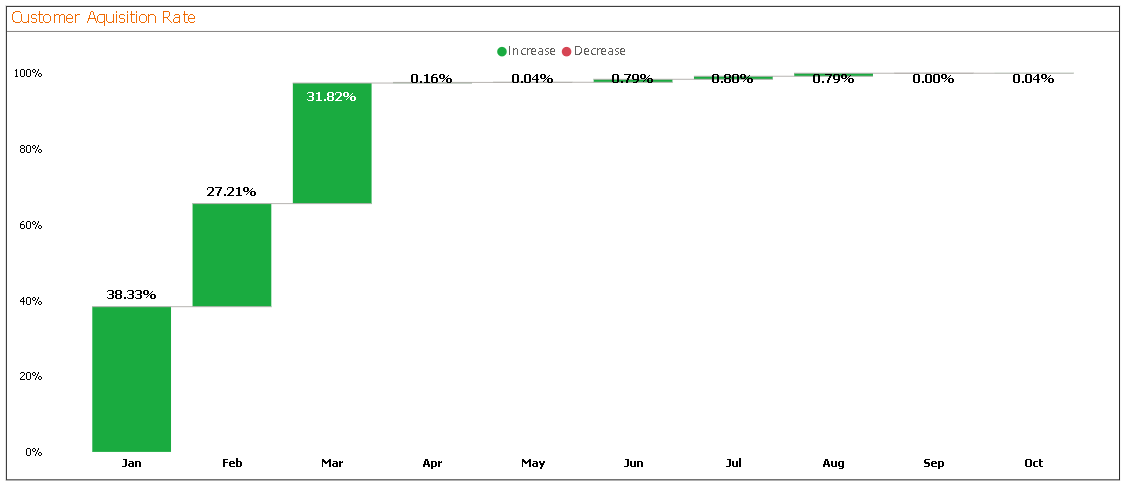

This screenshot's page, from the dashboard's own definition file:
{"tool":"powerbi","page":{"name":"CAR","canvas":[1280,720],"ordinal":0},"visuals":[{"type":"waterfallChart","title":"Customer Aquisition Rate","fields":{"Category":["Customer Acquisition Rate 2024 oct.month"],"Y":["Divide(Avg(Customer Acquisition Rate 2024 oct.acquisition_rate), ScopedEval(Avg(Customer Acquisition Rate 2024 oct.acqui"]},"box":[52.6,63.6,1173.9,498.9],"z":0}]}

Visuals, with their boxes on the page's 1280x720 design canvas (x1, y1, x2, y2). These are canvas units, not pixel positions in the 1122x482 screenshot, which may show the page scaled, cropped or inside an application window:
"Customer Aquisition Rate" waterfallChart: 53 64 1226 562
